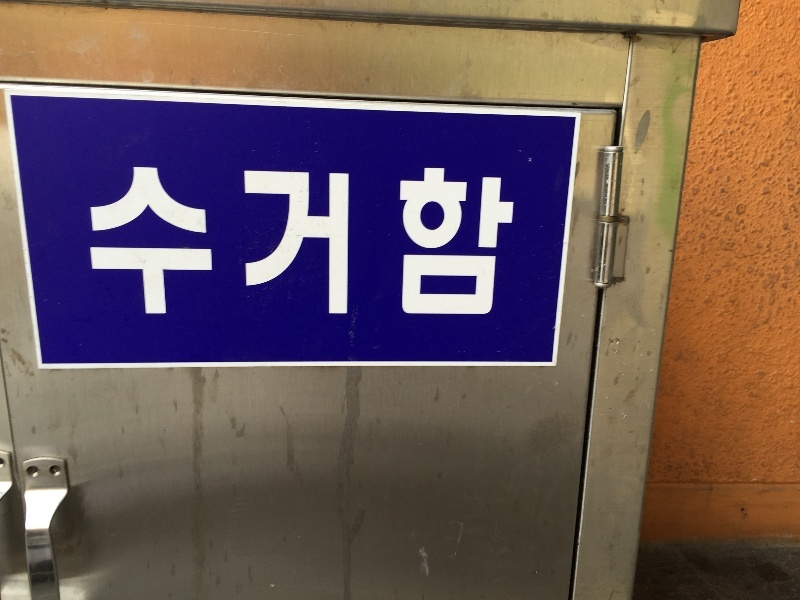text: (97, 166, 112, 320), (113, 166, 128, 320), (129, 166, 144, 320), (145, 166, 160, 320), (161, 166, 176, 320), (177, 166, 192, 320), (193, 166, 208, 320), (209, 166, 224, 320), (225, 166, 240, 320), (241, 166, 256, 320), (257, 166, 272, 320), (273, 166, 288, 320), (289, 166, 304, 320), (305, 166, 320, 320), (321, 166, 336, 320), (337, 166, 352, 320), (353, 166, 368, 320), (369, 166, 384, 320), (385, 166, 400, 320), (401, 166, 416, 320), (417, 166, 432, 320), (433, 166, 448, 320), (449, 166, 464, 320), (465, 166, 480, 320), (481, 166, 496, 320), (497, 166, 512, 320), (88, 166, 96, 320), (513, 166, 517, 320)
